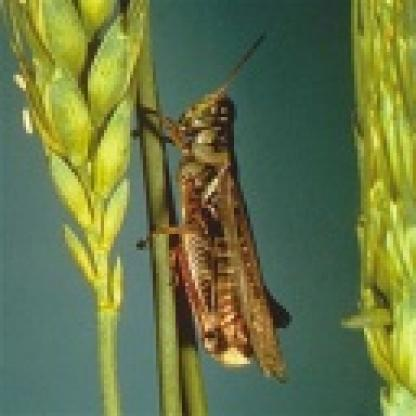grasshopper: (141, 37, 310, 384)
